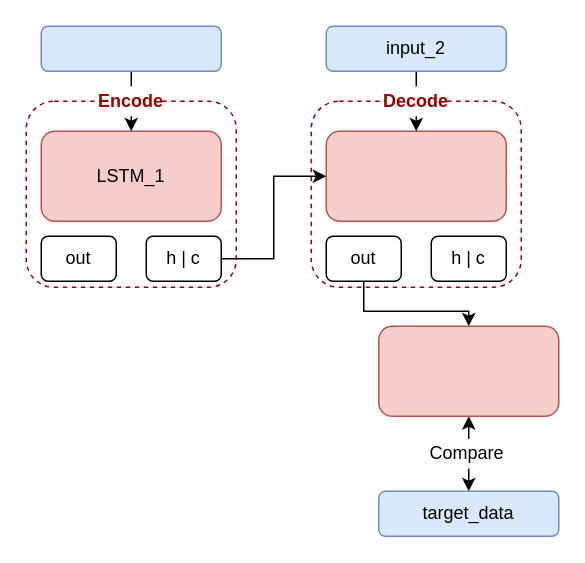
Some shapes in this 585 by 563 pixel diagram are drawn without their labels. Here are the shapes that lost their labels. From the top down, the centre of each, then its label:
At [130,48]: "input_1".
At [415,175]: "LSTM_2".
At [468,370]: "FC".
